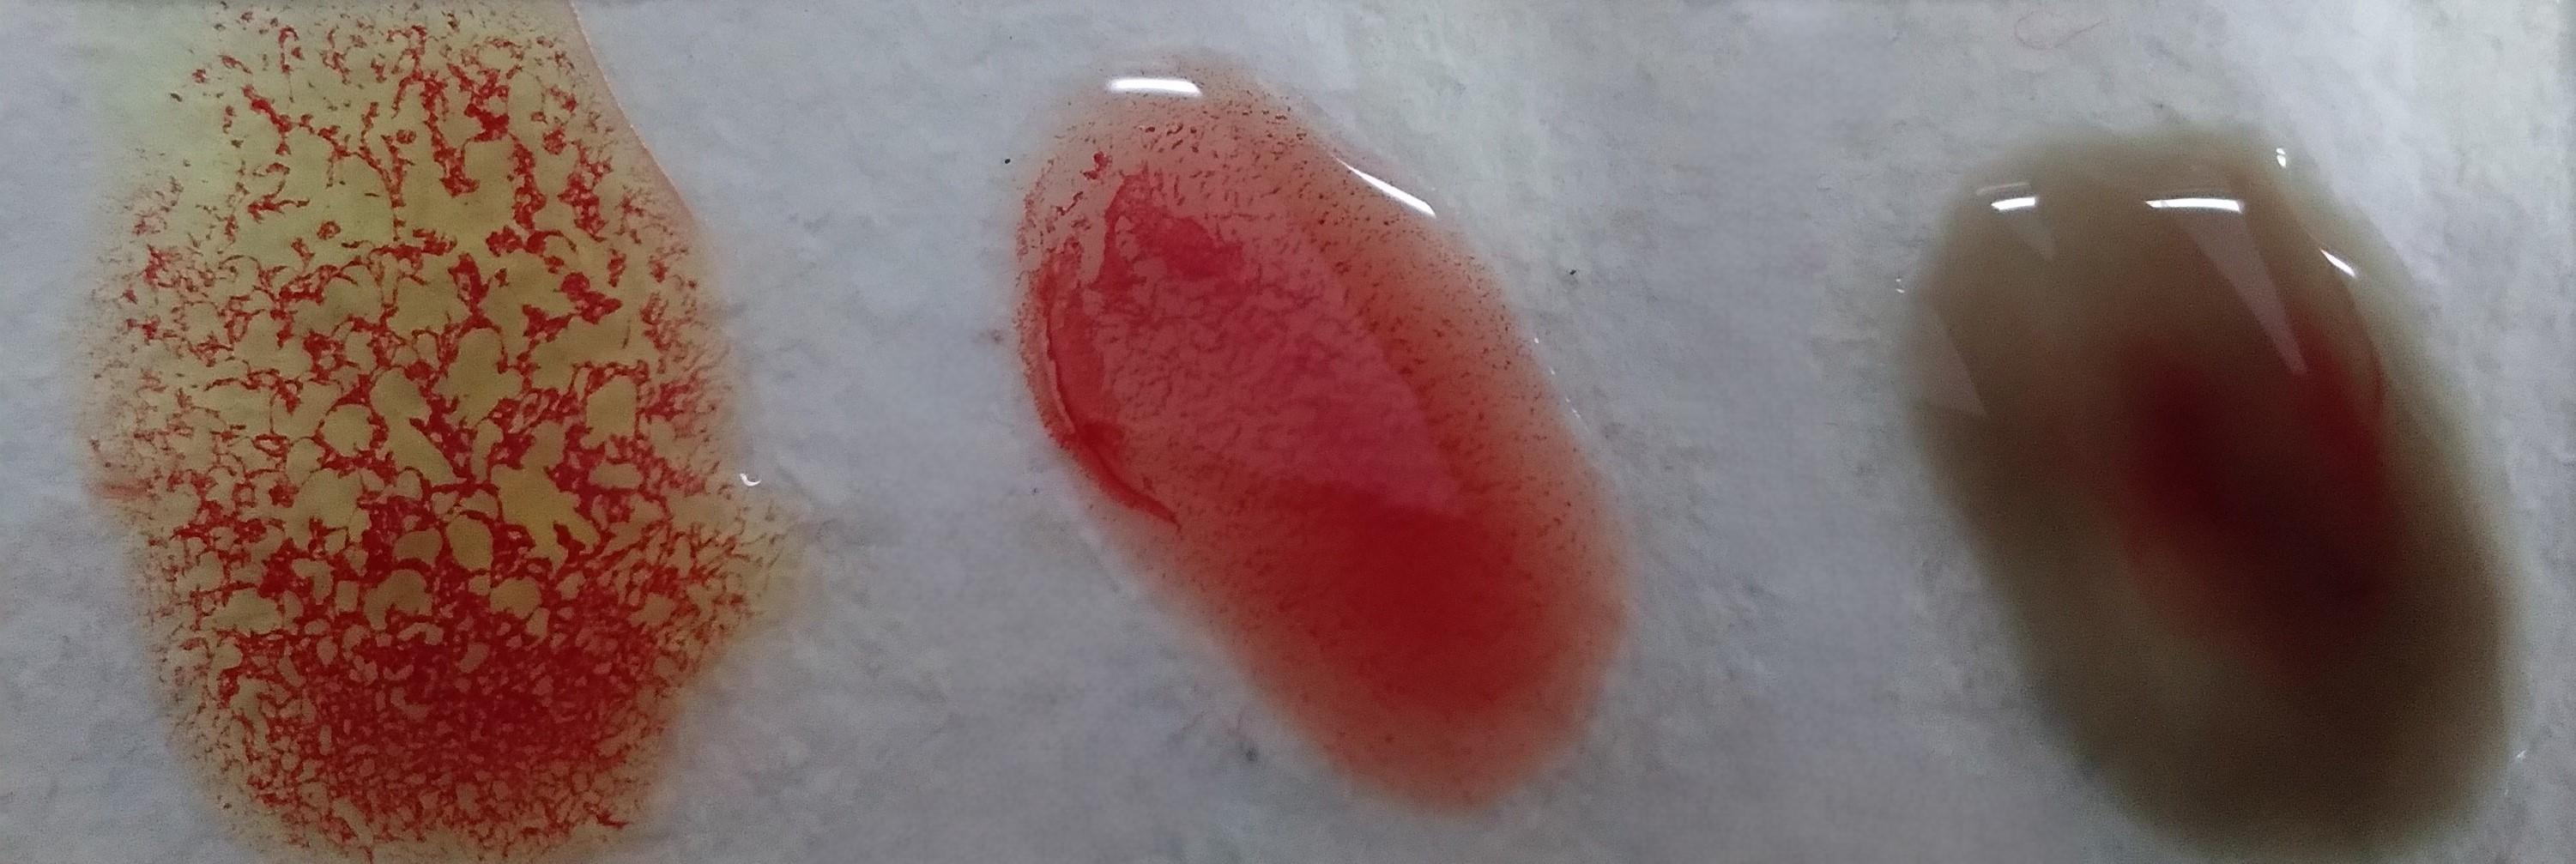B: (126, 10, 739, 854)
D: (1025, 100, 1621, 813)
